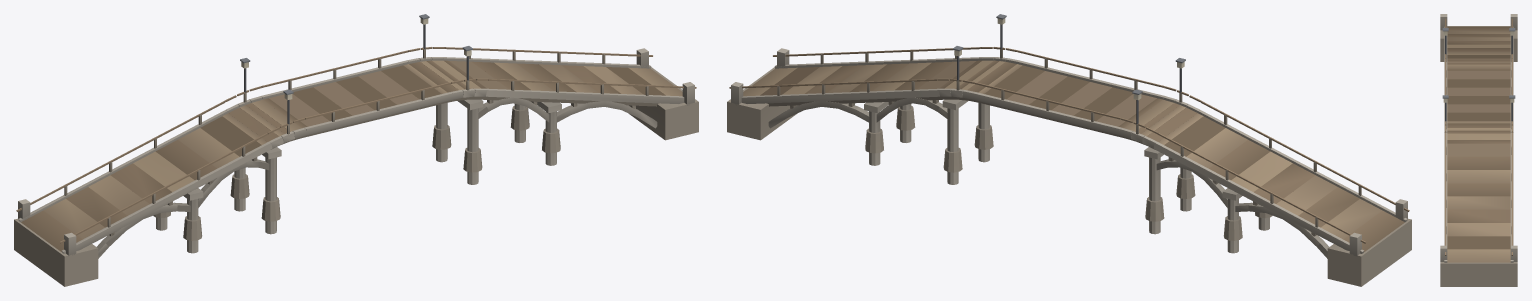
File: bridge_yunseul_high_low.glb
3 renders of one model, left to right at view 1: azimuth 30°, elevation 25°; view 2: azimuth 150°, elevation 25°; view 3: azimuth 270°, elevation 25°, orthographic. The views are drawn at different scales.
Bounding box in the file's own units: 56.78 × 12.1 × 7.8.
